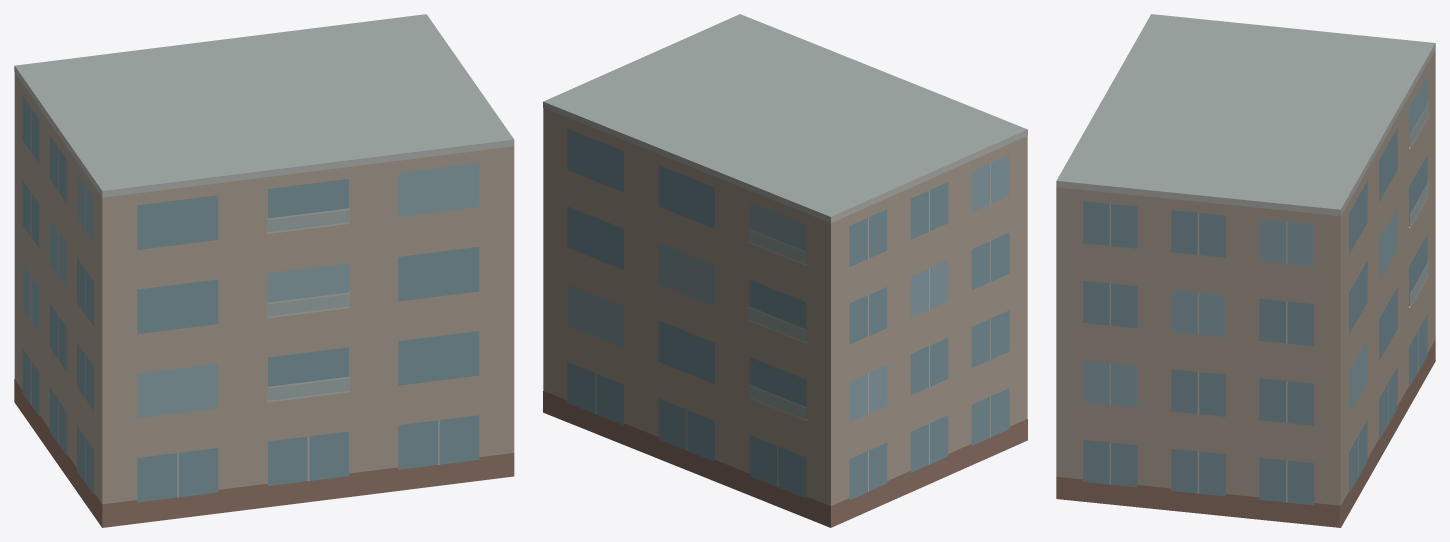
File: residential-ed70bdc8-60ae-4bc4-a46b-f0441e82297c.glb
3 views of the same model, side by side, from view 1: azimuth 30°, elevation 25°; view 2: azimuth 150°, elevation 25°; view 3: azimuth 270°, elevation 25° (orthographic). The views are drawn at different scales.
Parts seen in each view (by area): view 1: residential-ed70bdc8-60ae-4bc4-a46b-f0441e82297c.tmp; view 2: residential-ed70bdc8-60ae-4bc4-a46b-f0441e82297c.tmp; view 3: residential-ed70bdc8-60ae-4bc4-a46b-f0441e82297c.tmp.
Boxes of the visible parts, x1,y1,x2,y2 form: residential-ed70bdc8-60ae-4bc4-a46b-f0441e82297c.tmp: (14, 14, 514, 527); residential-ed70bdc8-60ae-4bc4-a46b-f0441e82297c.tmp: (543, 14, 1027, 527); residential-ed70bdc8-60ae-4bc4-a46b-f0441e82297c.tmp: (1056, 14, 1435, 527).
Bounding box in the file's own units: 16.11 × 12.2 × 13.19.
